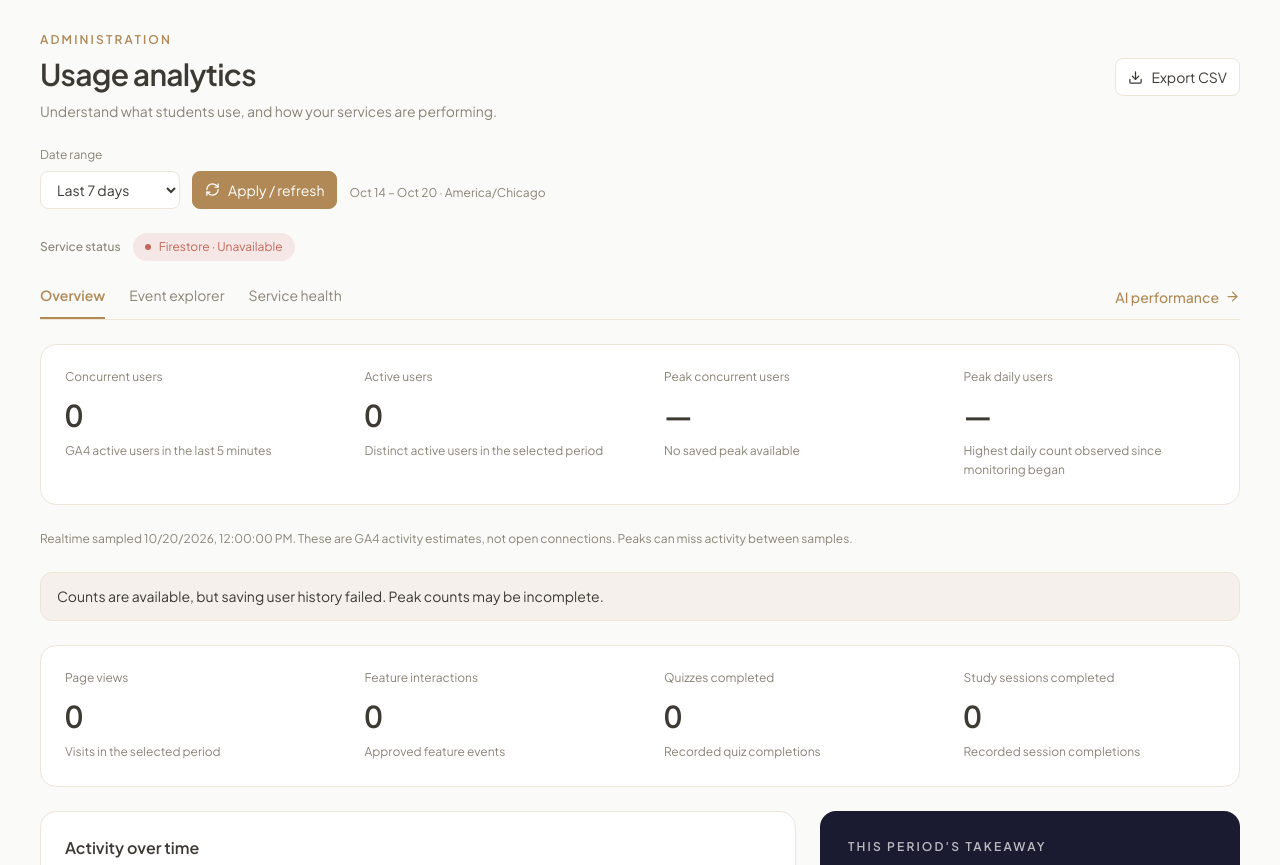
Test: renders true empty analytics separately from missing peaks and failed health history
This screenshot has width=1280, height=865.
Expected: the text "No saved peak available" is shown, top-left (664, 443), bottom-right (800, 458)
Expected: the text "Firestore · Unavailable" is shown, top-left (133, 233), bottom-right (294, 261)
Click the button "Service health". click: {"x": 295, "y": 302}
box: top-left (248, 285), bottom-right (342, 319)
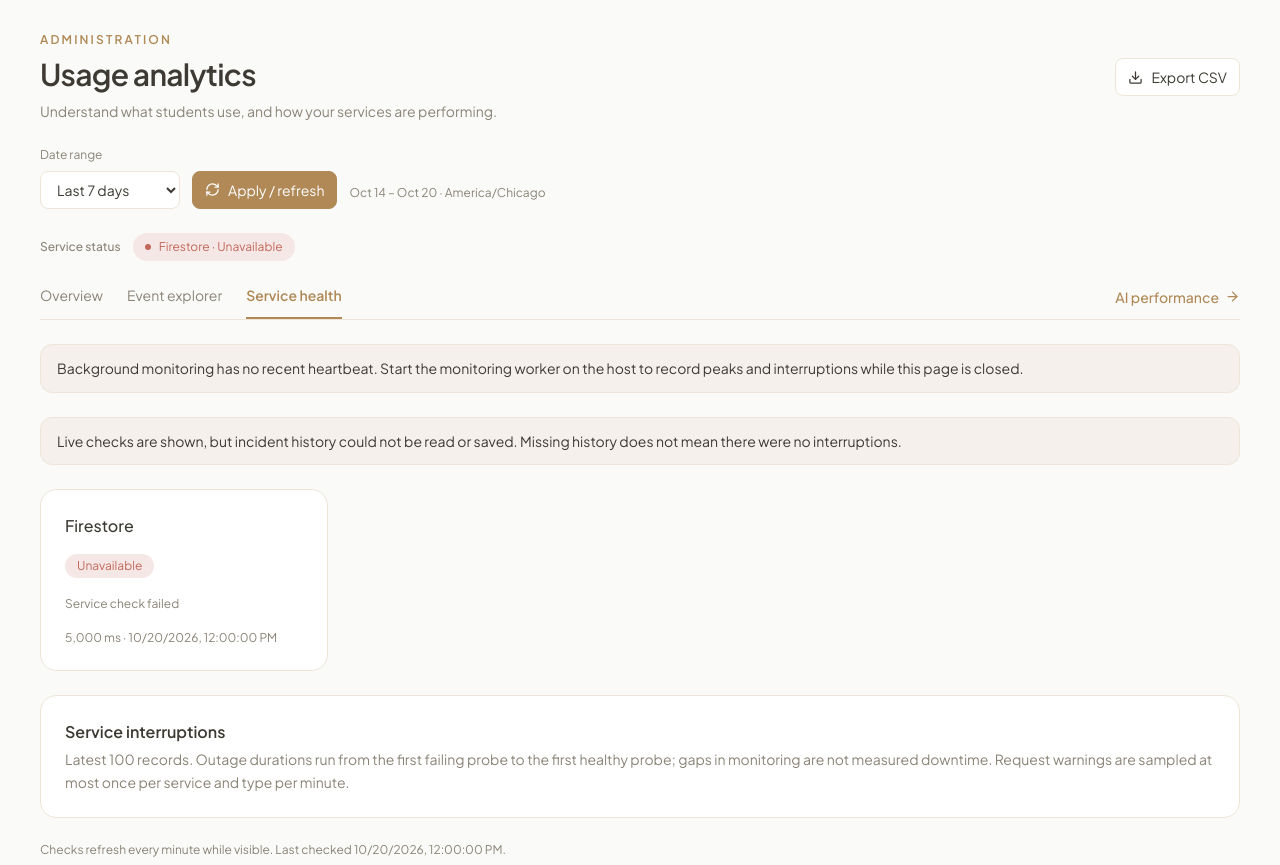
Now the text "incident history could not be read or saved" is shown, box top-left (57, 432), bottom-right (902, 450)
